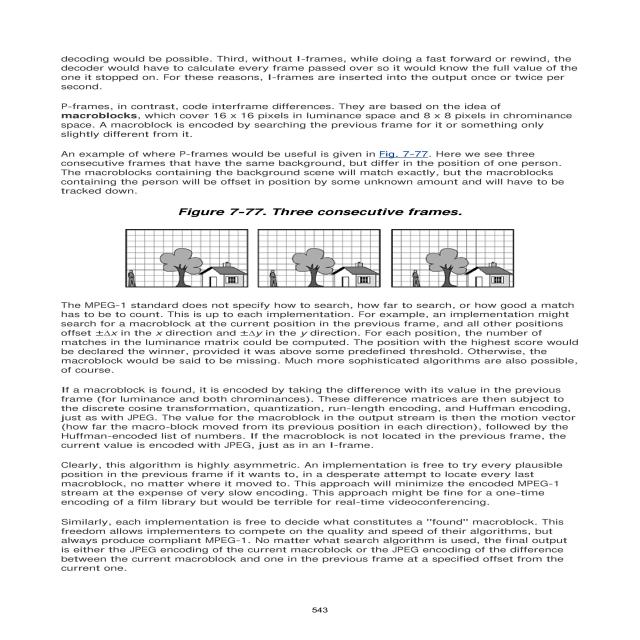diagram: (121, 197, 544, 296)
